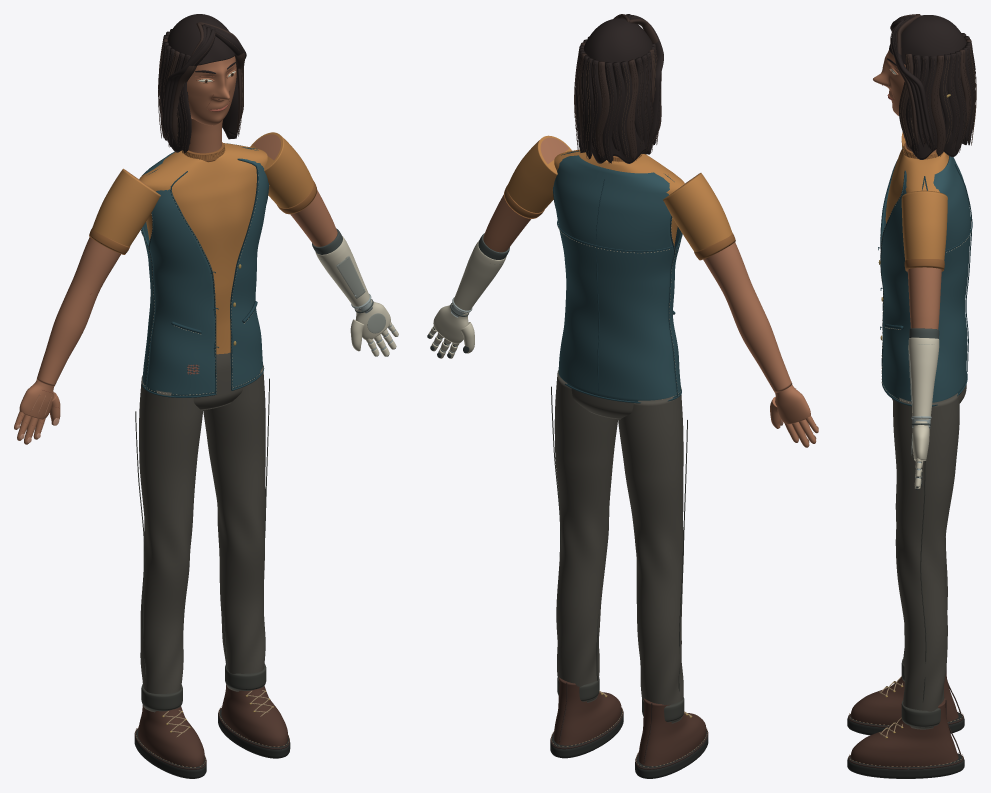
The picture shows the model from 3 angles, left to right: view 1: azimuth 30°, elevation 25°; view 2: azimuth 150°, elevation 25°; view 3: azimuth 270°, elevation 25°; orthographic projection.
Parts seen in each view (by area): view 1: R | trouser leg, L | trouser leg, Canvas waistcoat | right-front, Ochre knit | body, Canvas waistcoat | left-front, R | anatomical arm, R | short knit sleeve, R | leather ankle boot, L | leather ankle boot, Face | sculpted continuous head, L | short knit sleeve, L | anatomical arm (+13 smaller); view 2: Canvas waistcoat | back, R | trouser leg, L | trouser leg, R | anatomical arm, R | short knit sleeve, L | leather ankle boot, R | leather ankle boot, L | short knit sleeve, Hair | shaped scalp cap, Hair | batched Hair | wave planes, L | anatomical arm, L prosthesis | fitted socket and forearm (+13 smaller); view 3: L | trouser leg, Canvas waistcoat | back, Canvas waistcoat | left-front, L | leather ankle boot, L | short knit sleeve, Hair | shaped scalp cap, L prosthesis | fitted socket and forearm, R | leather ankle boot, L | anatomical arm, Ochre knit | body, Hair | batched Hair | wave planes, L | rubber outsole (+27 smaller).
Part boxes in pixels (x1,y1,x2,y2): R | trouser leg: (139, 375, 203, 712); L | trouser leg: (203, 365, 265, 691); Canvas waistcoat | right-front: (146, 189, 215, 396); Ochre knit | body: (139, 143, 267, 354); Canvas waistcoat | left-front: (230, 158, 268, 388); R | anatomical arm: (36, 170, 146, 386); R | short knit sleeve: (92, 168, 160, 246); R | leather ankle boot: (138, 705, 204, 767); L | leather ankle boot: (221, 684, 288, 746); Face | sculpted continuous head: (187, 56, 236, 125); L | short knit sleeve: (250, 132, 313, 208); L | anatomical arm: (253, 134, 337, 246); Canvas waistcoat | back: (553, 155, 676, 401); R | trouser leg: (618, 385, 683, 723); L | trouser leg: (554, 370, 617, 702); R | anatomical arm: (674, 174, 792, 392); R | short knit sleeve: (663, 173, 732, 251); L | leather ankle boot: (553, 677, 621, 745); R | leather ankle boot: (638, 698, 706, 766); L | short knit sleeve: (507, 135, 571, 212); Hair | shaped scalp cap: (584, 18, 652, 77); Hair | batched Hair | wave planes: (574, 41, 658, 163); L | anatomical arm: (483, 137, 568, 252); L prosthesis | fitted socket and forearm: (453, 241, 506, 312); L | trouser leg: (893, 393, 959, 729); Canvas waistcoat | back: (932, 156, 970, 402); Canvas waistcoat | left-front: (881, 172, 910, 401); L | leather ankle boot: (850, 698, 958, 767); L | short knit sleeve: (901, 190, 947, 260); Hair | shaped scalp cap: (889, 15, 966, 68); L prosthesis | fitted socket and forearm: (908, 337, 939, 419); R | leather ankle boot: (850, 673, 958, 725); L | anatomical arm: (907, 267, 941, 329); Ochre knit | body: (885, 147, 948, 223); Hair | batched Hair | wave planes: (908, 38, 976, 156); L | rubber outsole: (847, 754, 964, 778).
Bounding box in the file's own units: 1.05 × 1.89 × 0.3023.
